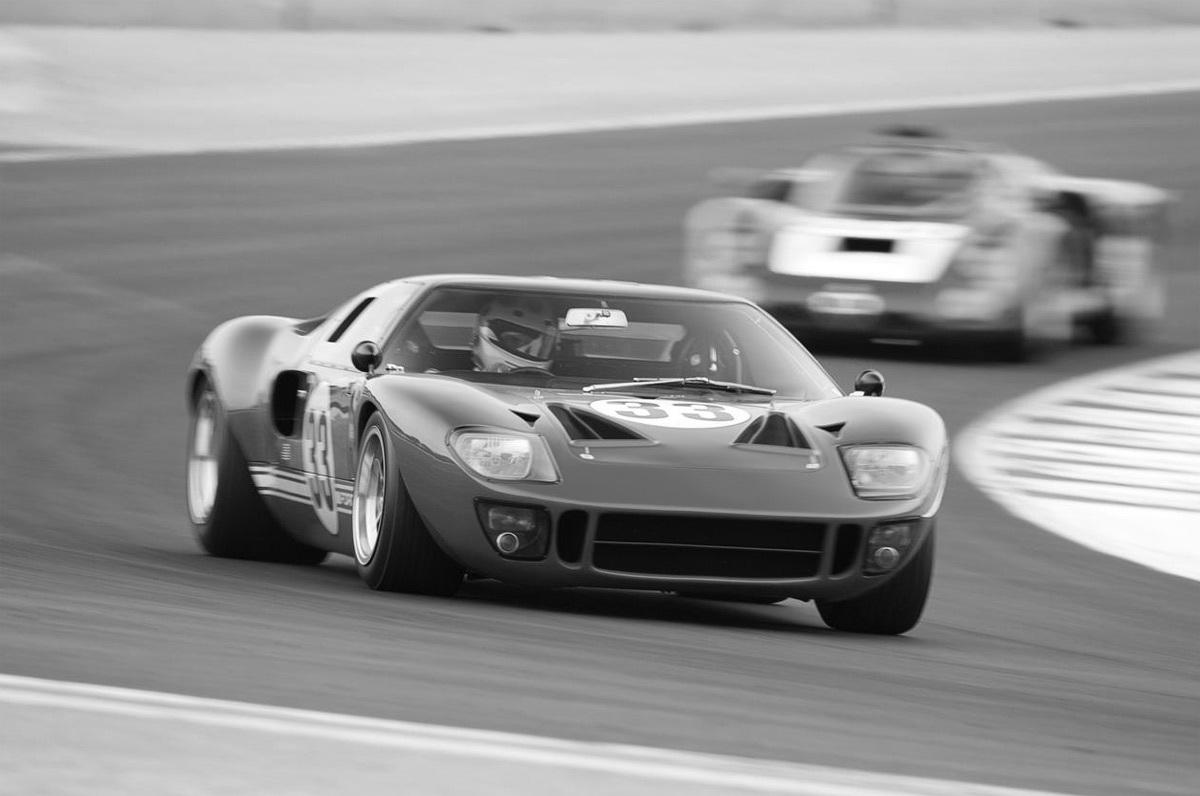car: (192, 274, 950, 636)
